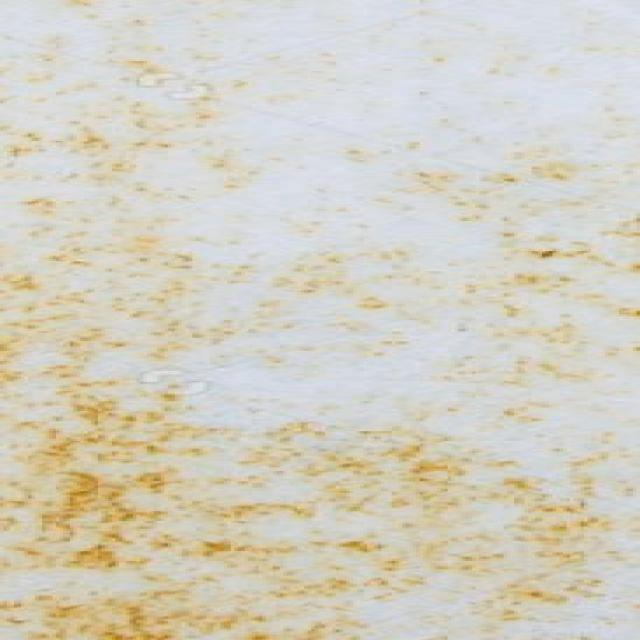wall_corrosion: (2, 368, 640, 640), (2, 3, 230, 364), (416, 121, 640, 364), (235, 224, 414, 354)
